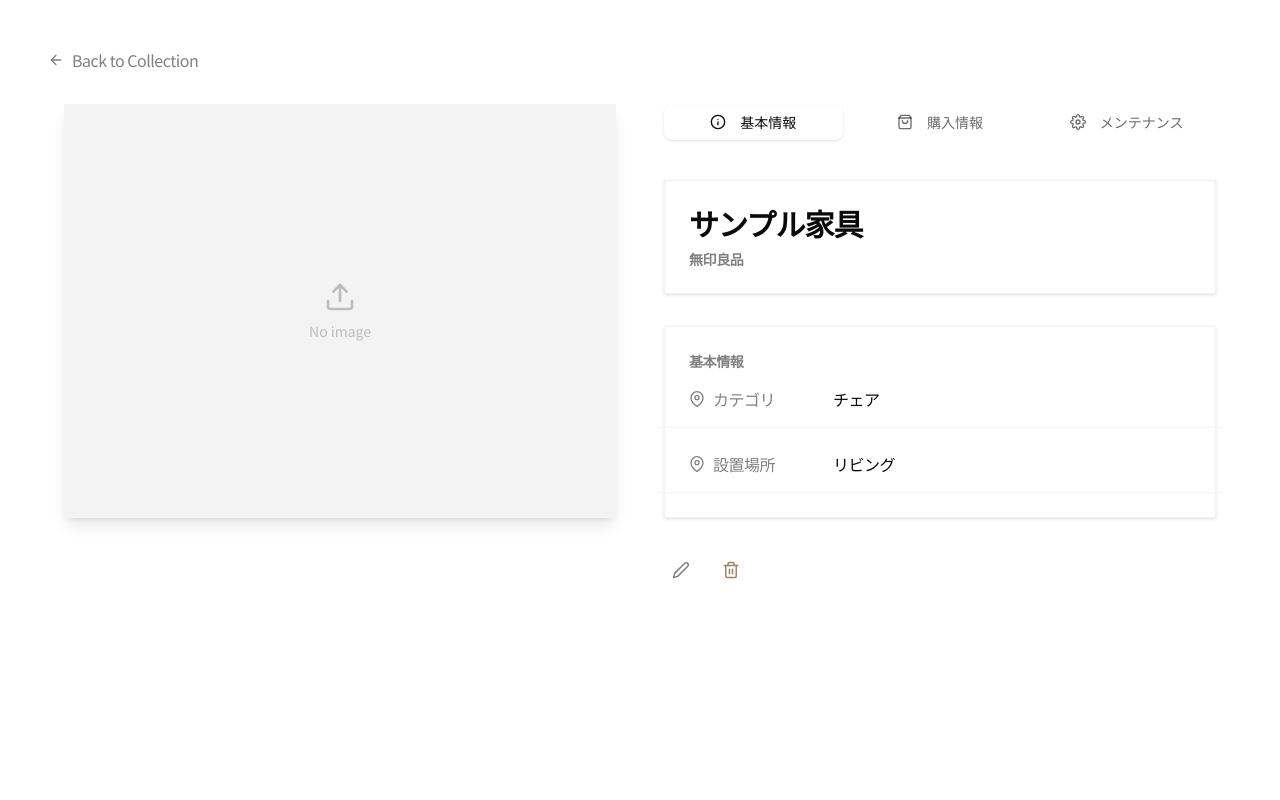
FurnitureDetailClient › タブ切り替え › メンテナンスタブに切り替えると、メンテナンス概要が表示される
Click the tab "メンテナンス". click: (1127, 122)
box: [1037, 104, 1216, 140]
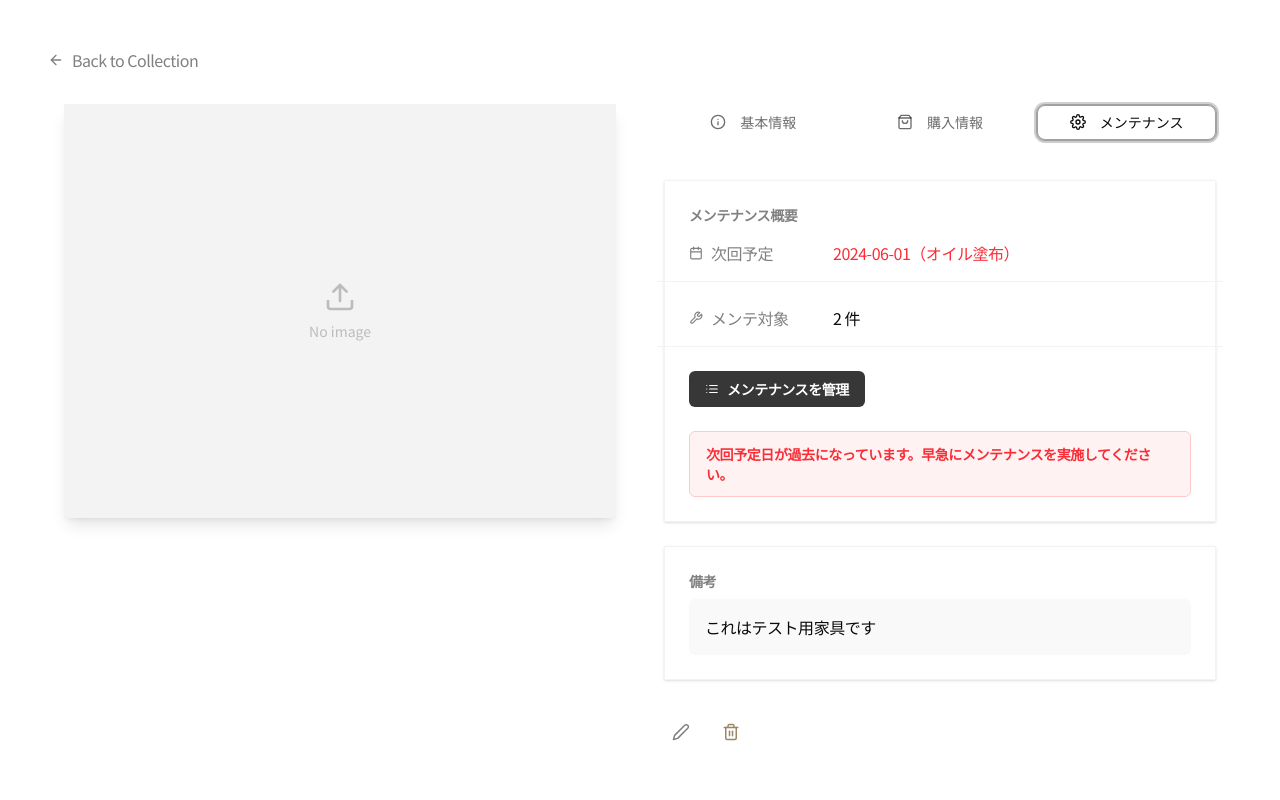
Now the heading "メンテナンス概要" is shown, box [689, 205, 797, 225]
Now the text "次回予定" is shown, box [689, 241, 773, 265]
Now the text "メンテ対象" is shown, box [689, 306, 789, 330]
